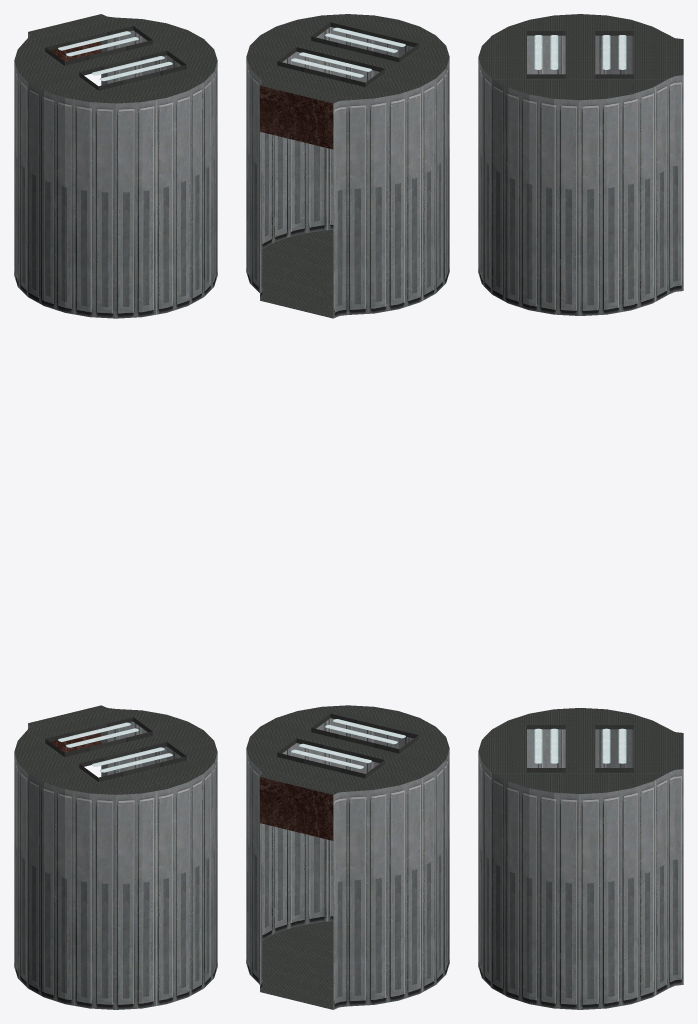
File: thm_nboo_assoc_hall_civ_s01_r9_elevator_mesh_elevator.fbx
3 renders of one model, left to right at view 1: azimuth 30°, elevation 25°; view 2: azimuth 150°, elevation 25°; view 3: azimuth 270°, elevation 25°, orthographic.
Parts seen in each view (by area): view 1: mesh_node; view 2: mesh_node; view 3: mesh_node.
Part boxes in pixels (x1,y1,x2,y2): mesh_node: [14, 14, 217, 1009]; mesh_node: [246, 14, 449, 1009]; mesh_node: [478, 14, 683, 1009].
Bounding box in the file's own units: 3 × 14.82 × 3.02.
